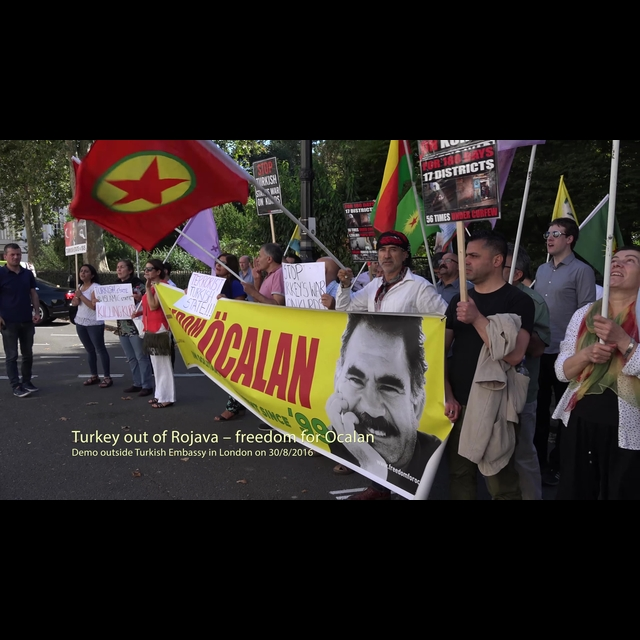APO: (338, 318, 423, 444)
PKK: (90, 147, 200, 221)
